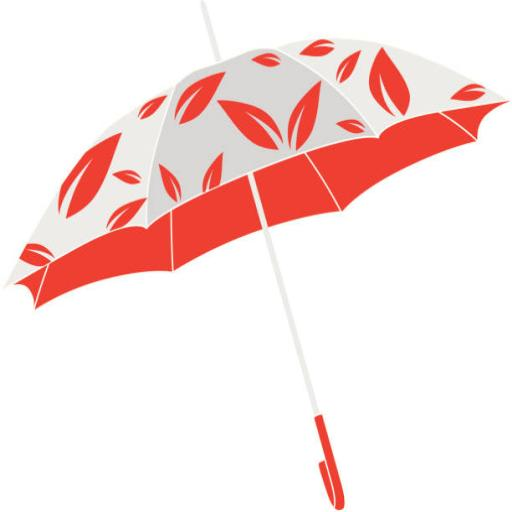guarda_chuva: (3, 26, 509, 509)
